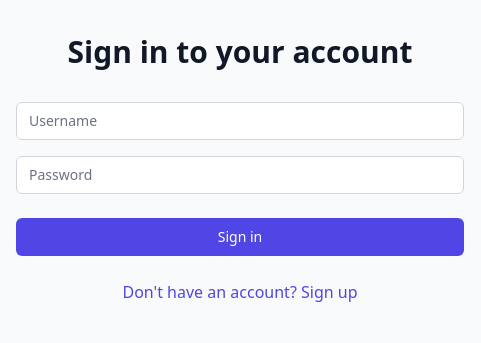
Test: shows validation errors for empty fields
Click the button "Sign in".
click(240, 237)  # box [16,218,464,256]
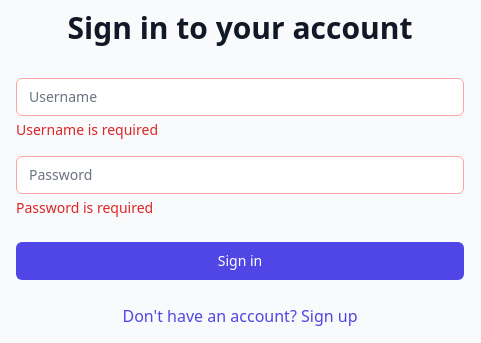
Expected: the text "Username is required" is shown, [16,120,158,139]
Expected: the text "Password is required" is shown, [16,198,153,217]
